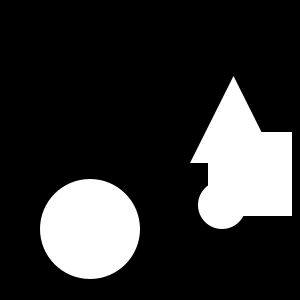circle: (208, 132, 292, 216)
rectangle: (40, 179, 140, 279), (198, 181, 246, 229)
triangle: (190, 76, 277, 163)
